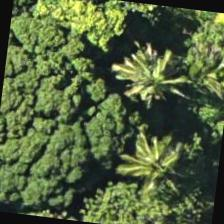Kelapa_Sawit: (112, 108, 212, 208), (106, 18, 206, 118)
